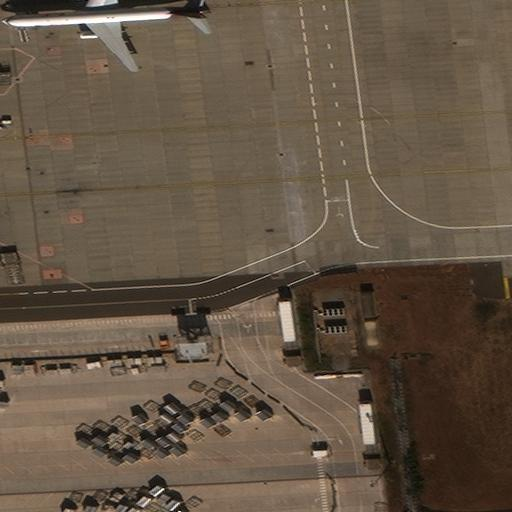Large Civil Transport: (1, 0, 209, 71)
